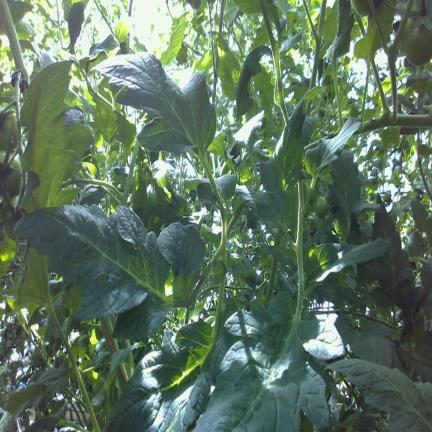6kp_petiole: (304, 5, 324, 57)
MainStem: (0, 0, 30, 87), (309, 0, 327, 90), (100, 317, 118, 360), (116, 362, 129, 391)
tomato: (401, 18, 432, 65), (0, 150, 22, 198), (0, 111, 18, 149), (3, 196, 18, 241), (351, 0, 382, 16), (305, 179, 316, 204), (314, 196, 326, 218), (93, 377, 104, 395)
